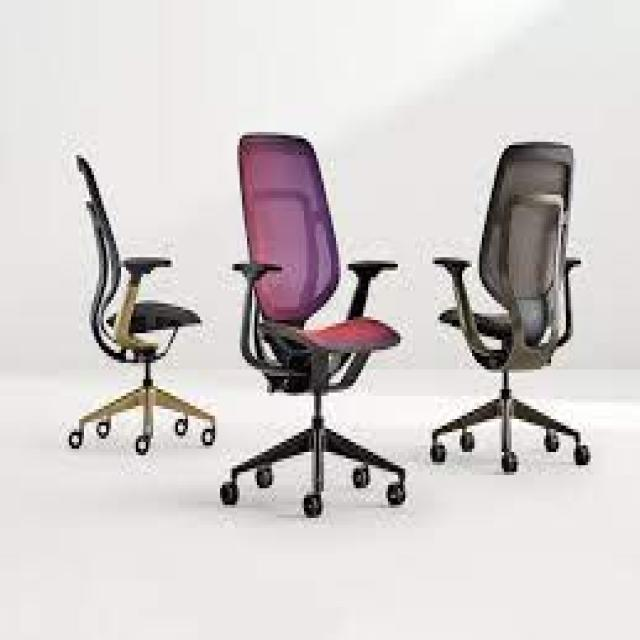chair: (213, 121, 422, 544), (420, 93, 607, 551), (46, 136, 224, 470)
